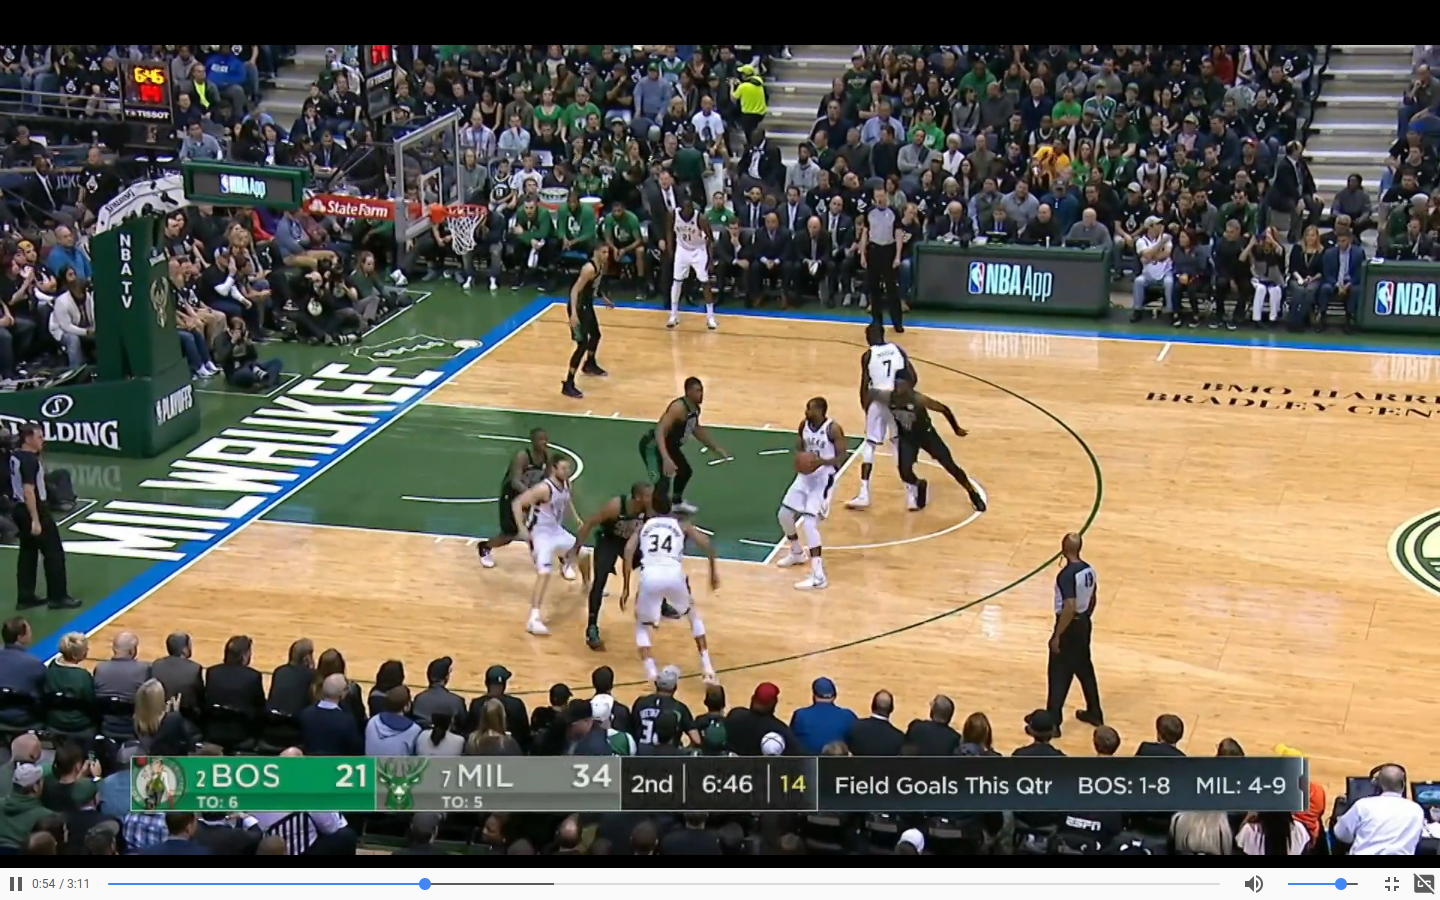basketball: (790, 446, 827, 482)
basketball player: (872, 369, 996, 522), (621, 499, 718, 682), (775, 386, 852, 592), (576, 479, 656, 663), (636, 369, 730, 517), (513, 460, 587, 640), (475, 428, 553, 574), (652, 199, 730, 339), (559, 242, 613, 399), (855, 314, 892, 511)
referee: (1036, 520, 1112, 734), (8, 423, 67, 620), (855, 186, 912, 339)
